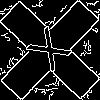X: (25, 25, 81, 81)
